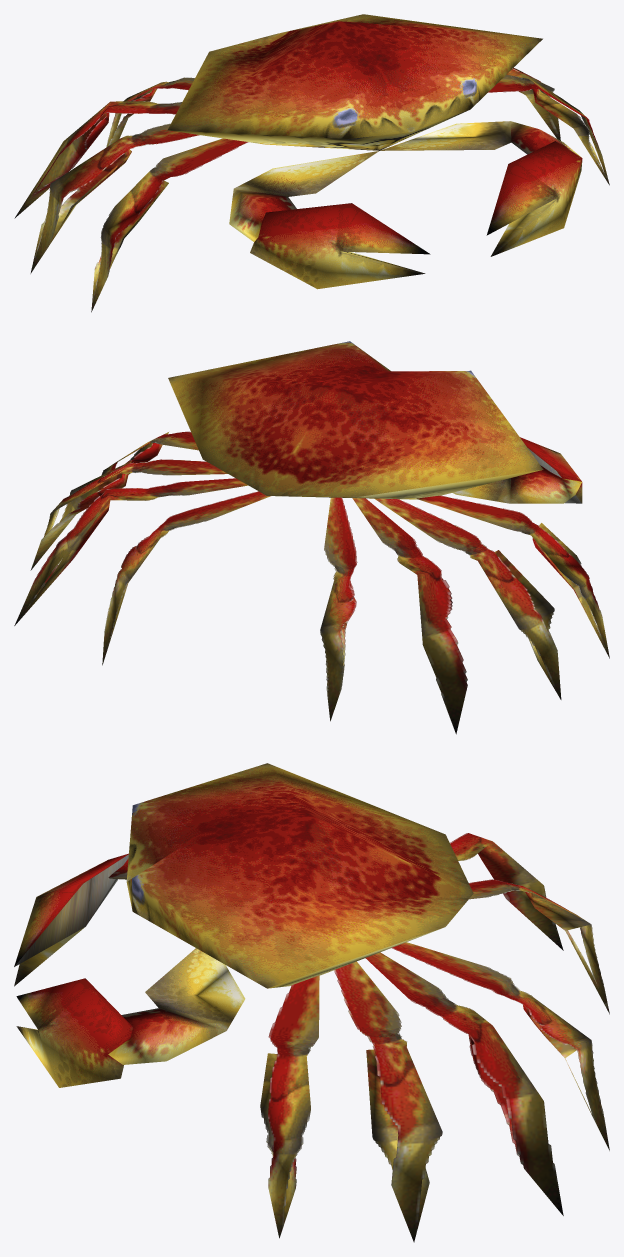
Rendered from rockc.obj.
3 renders of one model, top to bottom at view 1: azimuth 30°, elevation 25°; view 2: azimuth 150°, elevation 25°; view 3: azimuth 270°, elevation 25°, orthographic. The views are drawn at different scales.
Parts seen in each view (by area): view 1: rockc; view 2: rockc; view 3: rockc.
Part boxes in pixels (x1,y1,x2,y2): rockc: (14,14,609,312); rockc: (14,341,609,734); rockc: (14,763,609,1242).
Bounding box in the file's own units: 0.3999 × 0.1566 × 0.316.
1 material, 1 textured.
